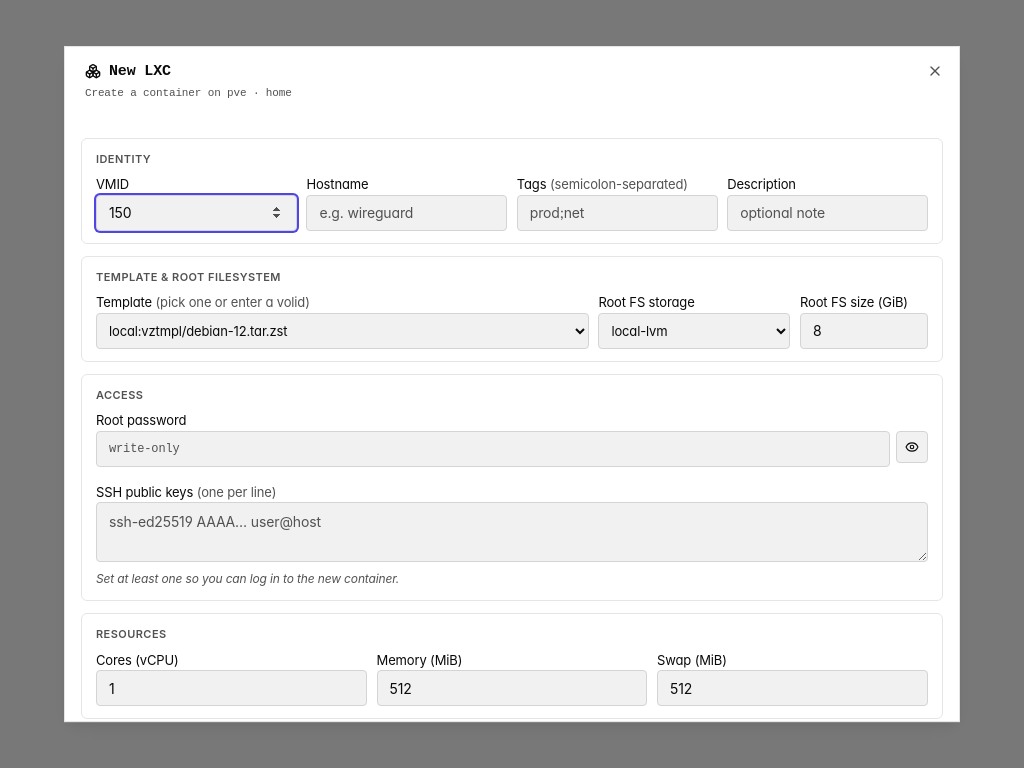
Test: LxcCreateModal — V6.13.1 › blocks submit when the vmid is already in use on the host
Expected: the number field showing "150" is shown, [96, 195, 297, 231]
Step 1. Type "pw" into the password field with placeholder "write-only" → (493, 449), box [96, 431, 890, 467]
(page scrolled)
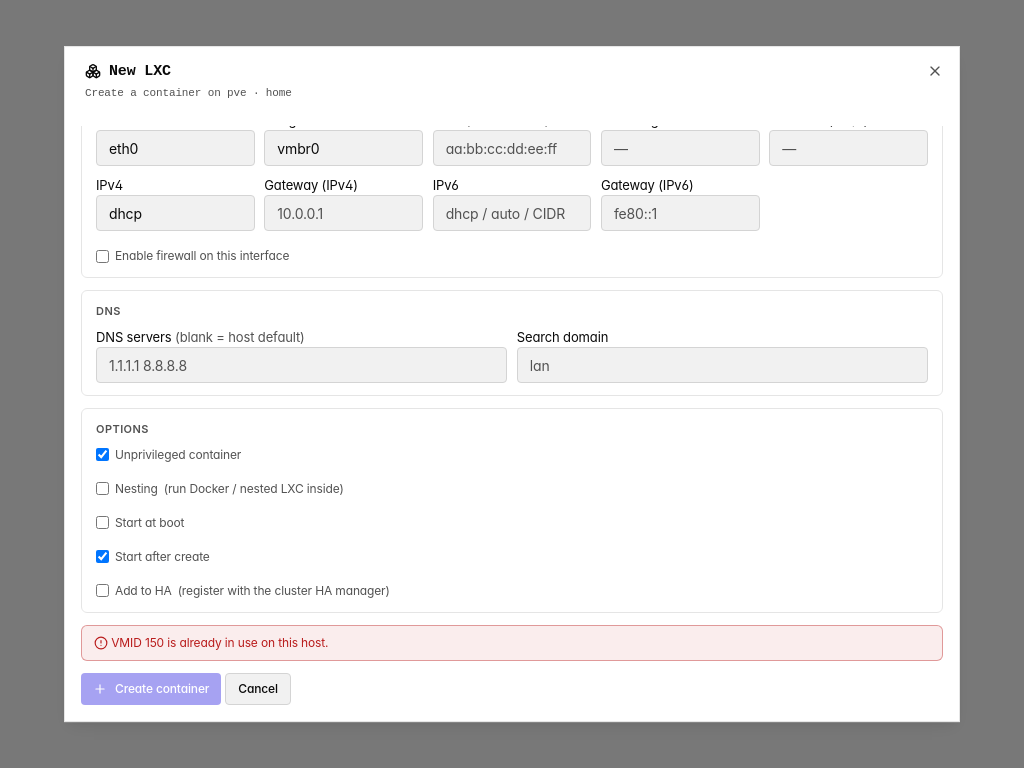
Expected: the text "VMID 150 is already in use on this host." is shown, [81, 625, 943, 661]
Expected: the button "Create container" is disabled, [81, 673, 221, 705]
